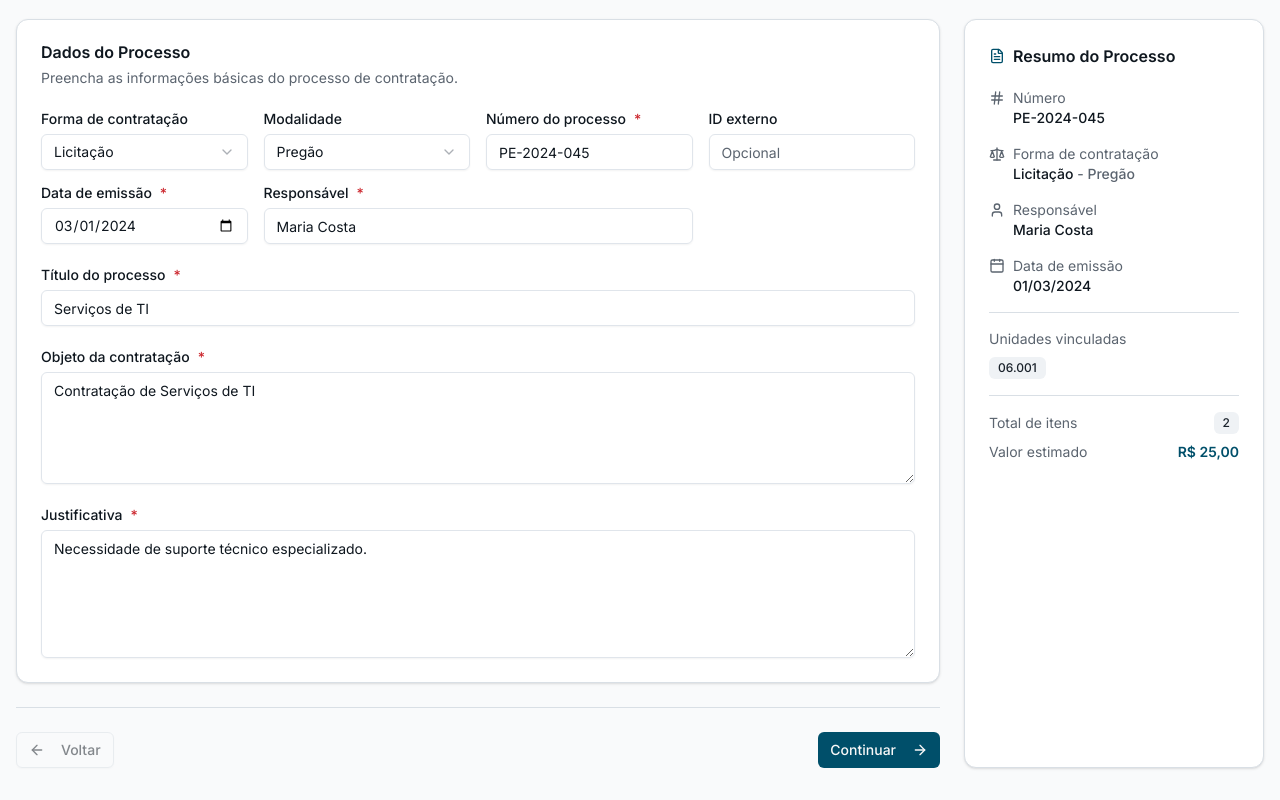
Scenario: ProcessEditPage › loads additional organization departments from the API during editing
(page scrolled)
Click the button "Continuar". click: (879, 750)
box: [818,732,940,768]
(page scrolled)
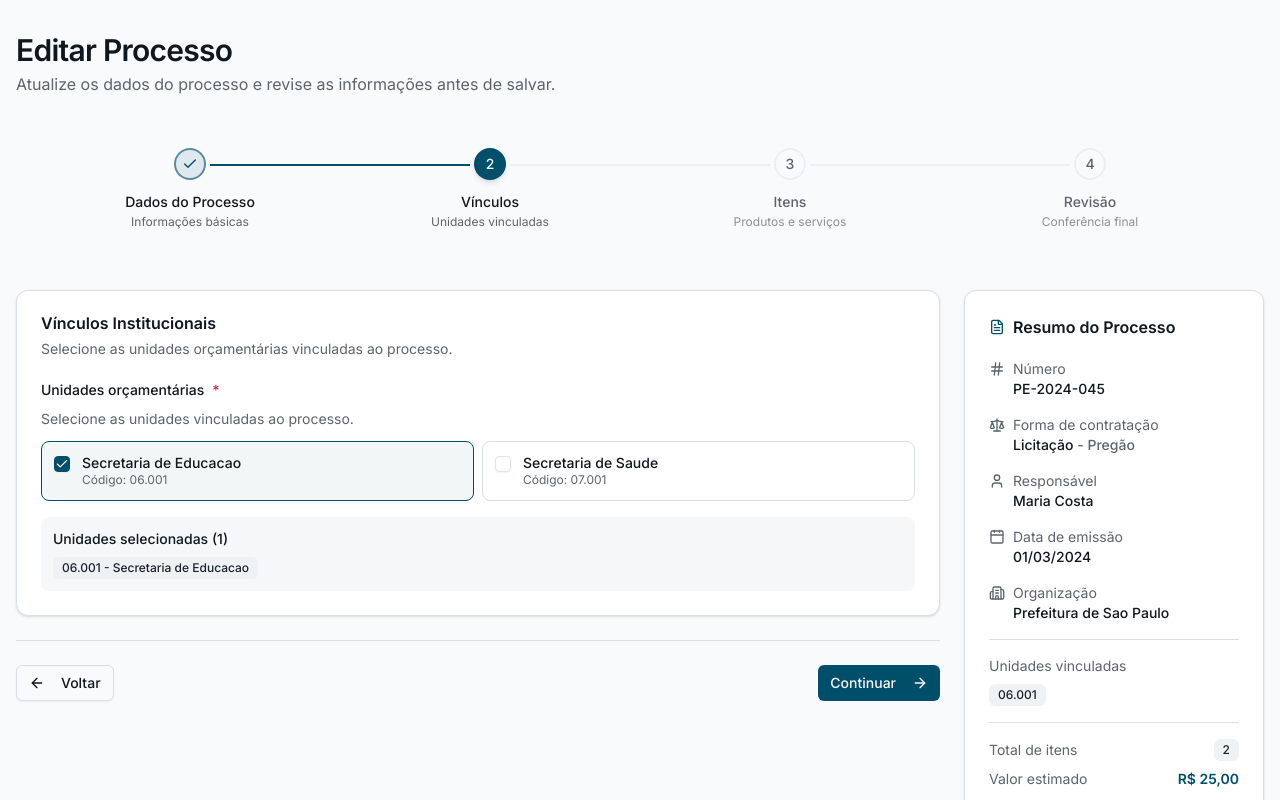
Result: the text "Vínculos Institucionais" is shown at [41,313,216,333]
Result: the text "Secretaria de Educacao" is shown at [82,454,241,471]
Result: the text "Secretaria de Saude" is shown at [523,454,658,471]
